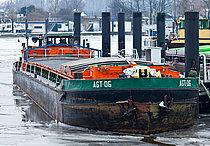Ship: (8, 26, 204, 138)
